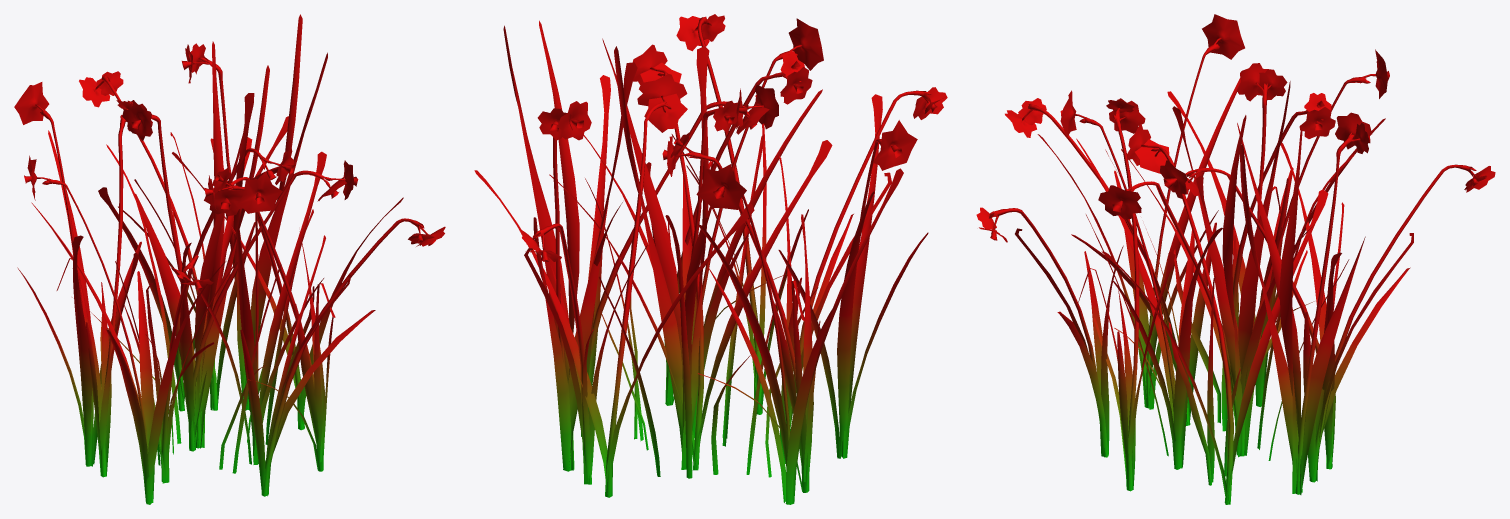
The model's file is Rush Daffodil_LOD2_Var10_wftgfjaia.fbx.
The picture shows the model from 3 angles, left to right: view 1: azimuth 30°, elevation 25°; view 2: azimuth 150°, elevation 25°; view 3: azimuth 270°, elevation 25°; orthographic projection. The views are drawn at different scales.
Parts seen in each view (by area): view 1: _izr1_var10_LOD2; view 2: _izr1_var10_LOD2; view 3: _izr1_var10_LOD2.
Part boxes in pixels (x1=…): _izr1_var10_LOD2: x1=14, y1=14, x2=445, y2=504; _izr1_var10_LOD2: x1=474, y1=14, x2=947, y2=504; _izr1_var10_LOD2: x1=976, y1=14, x2=1495, y2=504.
Size of the model in its own units: 35.44 by 39.64 by 47.27.
